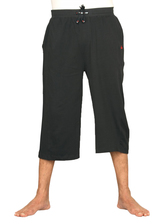clothoes: (32, 6, 142, 164)
